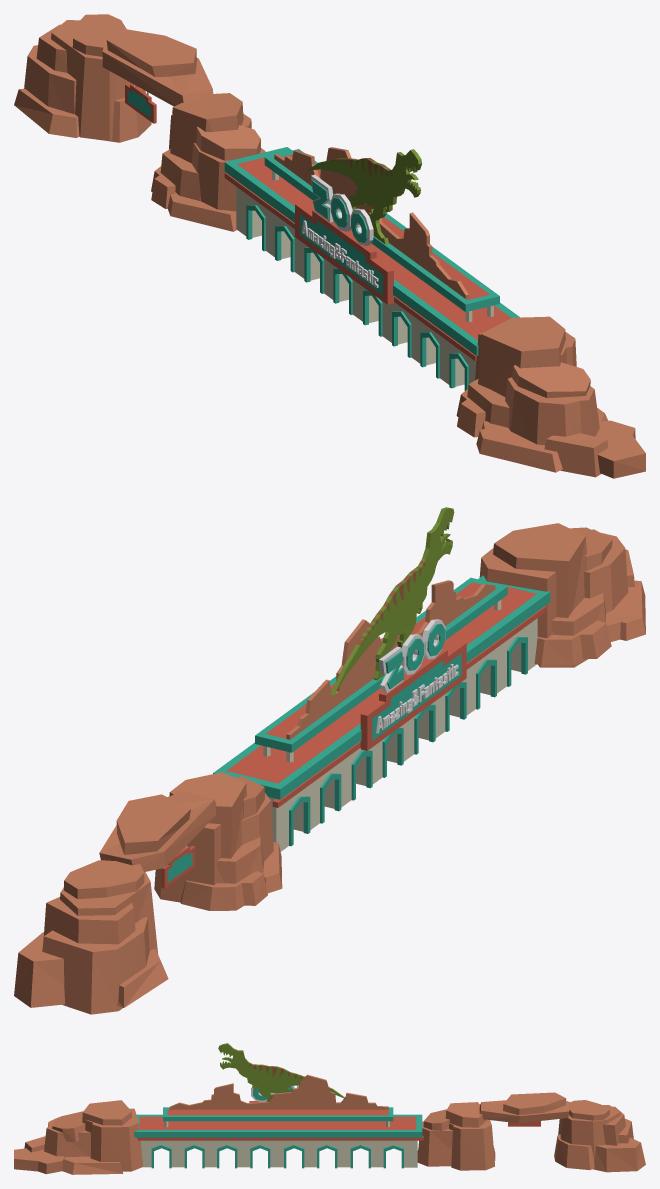
File: west_damen.FBX
The picture shows the model from 3 angles, top to bottom: view 1: azimuth 30°, elevation 25°; view 2: azimuth 150°, elevation 25°; view 3: azimuth 270°, elevation 25°; orthographic projection. The views are drawn at different scales.
Visible parts, largest first — view 1: west_damen; view 2: west_damen; view 3: west_damen.
Boxes of the visible parts, x1,y1,x2,y2 form: west_damen: (14, 14, 645, 478); west_damen: (14, 507, 645, 1014); west_damen: (14, 1043, 645, 1174).
Bounding box in the file's own units: 2591 × 4015 × 19737.
Materials: 1 (1 with a texture image).
